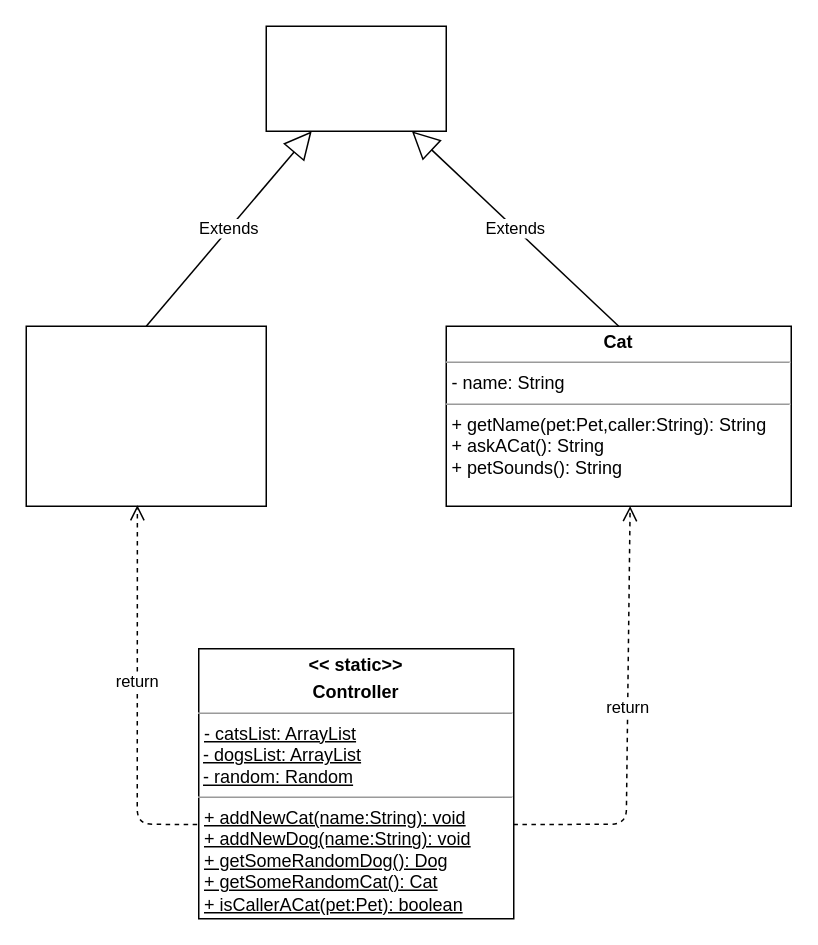
Some shapes in this 818 by 945 pixel diagram are drawn without their labels. Here are the shapes that lost their labels. From the top down, the box of each, then its label:
(265, 25, 446, 131): << abstract >> Pet + petSounds(): void
(25, 325, 266, 506): Dog - name: String + askACat(): String + petSounds(): String
